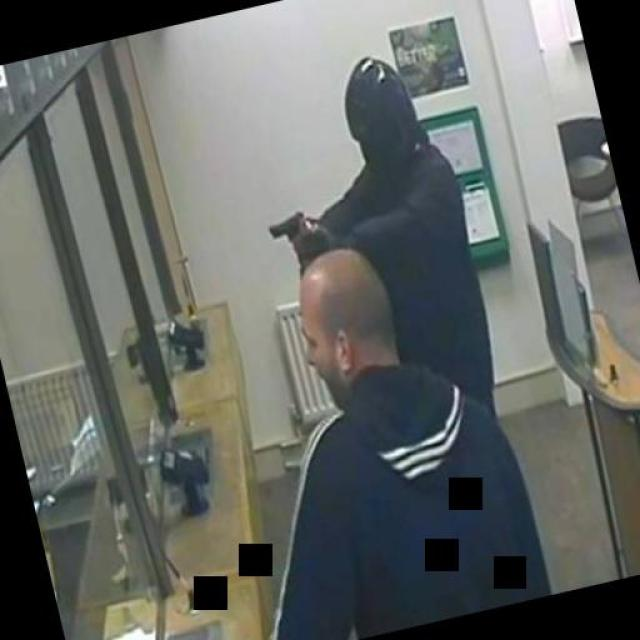gun: (260, 199, 314, 260)
